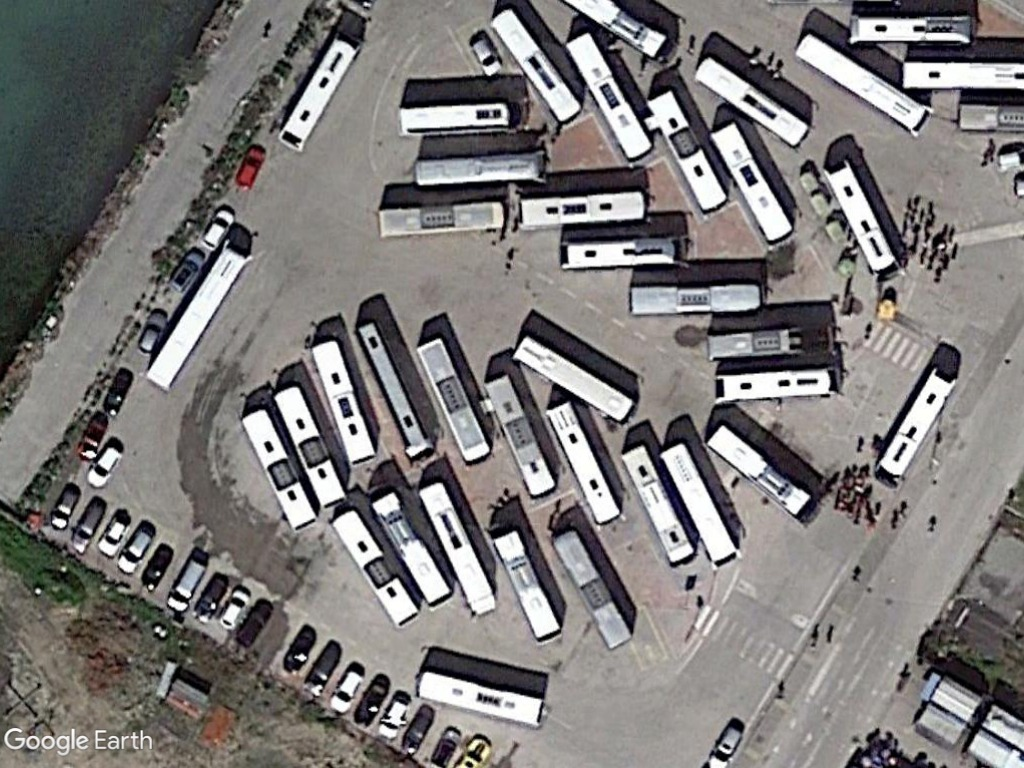bus: (141, 235, 255, 396), (790, 25, 937, 141), (353, 310, 443, 470), (708, 416, 820, 530), (274, 24, 368, 157), (692, 49, 812, 152), (701, 117, 798, 244), (416, 478, 499, 623), (512, 329, 637, 424), (871, 360, 964, 487), (364, 484, 456, 611), (329, 505, 421, 632), (546, 524, 635, 653), (489, 5, 583, 125), (660, 437, 743, 572), (237, 402, 320, 537), (481, 368, 562, 503), (615, 438, 697, 571), (413, 333, 494, 467), (644, 86, 728, 215), (821, 154, 904, 283), (271, 383, 351, 512), (308, 334, 380, 470), (489, 523, 566, 647), (411, 667, 557, 732), (512, 183, 653, 235), (697, 319, 845, 366), (704, 365, 848, 410), (553, 231, 696, 276), (373, 197, 512, 242), (624, 279, 770, 321), (412, 148, 552, 191), (844, 7, 980, 51), (393, 98, 519, 141)
car: (113, 523, 157, 576), (323, 666, 366, 717), (96, 505, 133, 562), (196, 205, 239, 254), (83, 444, 125, 492), (134, 307, 169, 360), (233, 140, 267, 194), (48, 481, 83, 532), (216, 584, 253, 631), (467, 33, 503, 79)
van: (161, 551, 212, 616)
